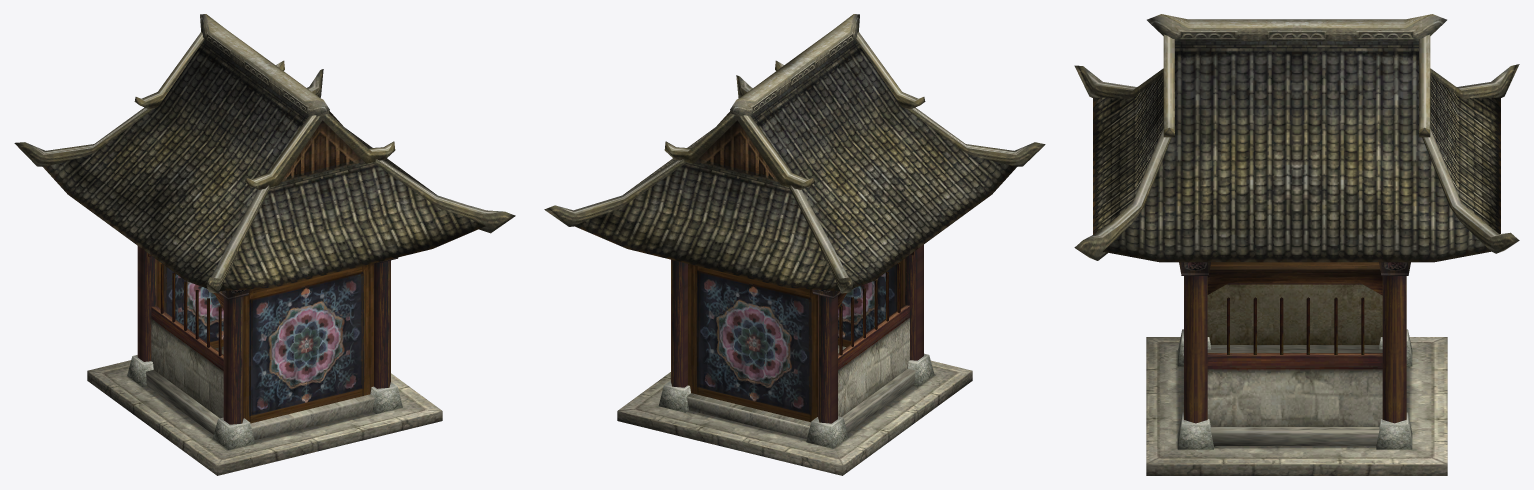
Rendered from b1-004-house2_lod_01.fbx.
The picture shows the model from 3 angles, left to right: view 1: azimuth 30°, elevation 25°; view 2: azimuth 150°, elevation 25°; view 3: azimuth 270°, elevation 25°; orthographic projection. The views are drawn at different scales.
Parts seen in each view (by area): view 1: b1-004-hause2; view 2: b1-004-hause2; view 3: b1-004-hause2.
Part boxes in pixels (<box>): b1-004-hause2: <box>14,14,515,475</box>; b1-004-hause2: <box>544,14,1045,475</box>; b1-004-hause2: <box>1074,14,1519,475</box>.
Size of the model in its own units: 5.14 by 5.45 by 5.53.
